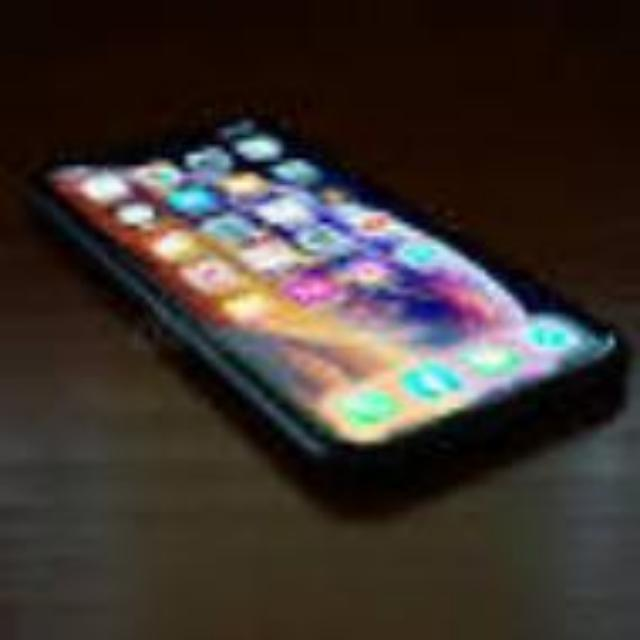PhoneUse: (16, 101, 630, 485)
